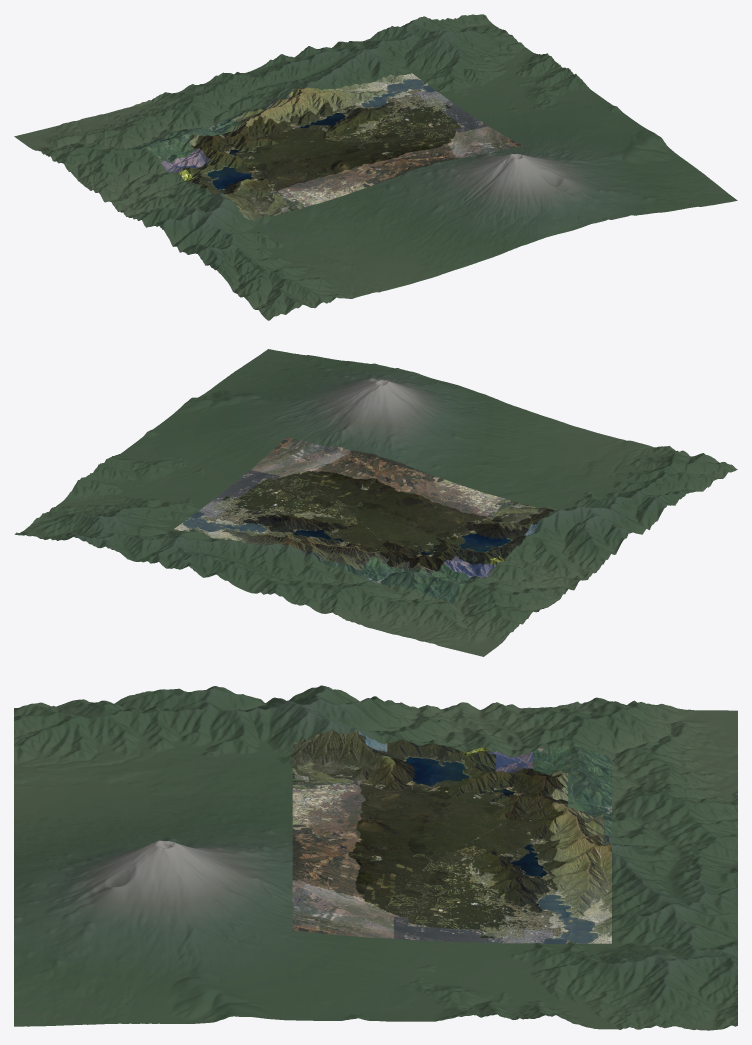
Rendered from Aokigahara_Regional_Terrain.glb.
3 renders of one model, top to bottom at view 1: azimuth 30°, elevation 25°; view 2: azimuth 150°, elevation 25°; view 3: azimuth 270°, elevation 25°, orthographic. The views are drawn at different scales.
Parts seen in each view (by area): view 1: Regional_Elevation_Context_01, Regional_Elevation_Context_00, Regional_Elevation_Context_02, Regional_Elevation_Context_03, GSI_Aerial_Context_00, GSI_Aerial_Context_01; view 2: Regional_Elevation_Context_00, Regional_Elevation_Context_02, Regional_Elevation_Context_01, Regional_Elevation_Context_03, GSI_Aerial_Context_00, GSI_Aerial_Context_01; view 3: Regional_Elevation_Context_03, Regional_Elevation_Context_02, Regional_Elevation_Context_01, Regional_Elevation_Context_00, GSI_Aerial_Context_01, GSI_Aerial_Context_00.
Boxes of the visible parts, bbox=[...] form: Regional_Elevation_Context_01: bbox=[182, 172, 518, 320]; Regional_Elevation_Context_00: bbox=[14, 64, 430, 252]; Regional_Elevation_Context_02: bbox=[265, 14, 633, 143]; Regional_Elevation_Context_03: bbox=[422, 121, 737, 246]; GSI_Aerial_Context_00: bbox=[137, 100, 384, 220]; GSI_Aerial_Context_01: bbox=[273, 73, 523, 180]; Regional_Elevation_Context_00: bbox=[233, 449, 650, 656]; Regional_Elevation_Context_02: bbox=[14, 420, 280, 584]; Regional_Elevation_Context_01: bbox=[399, 395, 737, 528]; Regional_Elevation_Context_03: bbox=[165, 349, 487, 458]; GSI_Aerial_Context_00: bbox=[313, 472, 560, 603]; GSI_Aerial_Context_01: bbox=[174, 437, 424, 555]; Regional_Elevation_Context_03: bbox=[14, 840, 307, 1026]; Regional_Elevation_Context_02: bbox=[306, 855, 737, 1030]; Regional_Elevation_Context_01: bbox=[14, 686, 264, 864]; Regional_Elevation_Context_00: bbox=[263, 685, 737, 870]; GSI_Aerial_Context_01: bbox=[292, 831, 611, 943]; GSI_Aerial_Context_00: bbox=[292, 730, 611, 845].
Size of the model in its own units: 32000 by 3522 by 30000.
2 materials, 1 textured.
